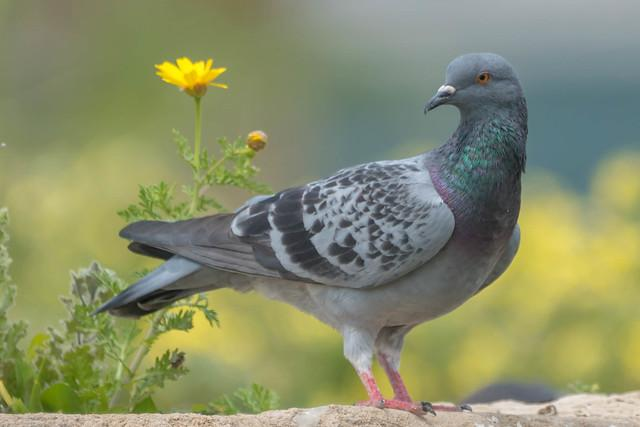Flying Rat: (104, 53, 535, 414)
